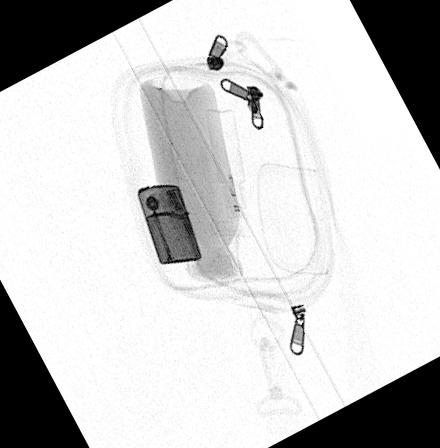Lighter: (136, 183, 203, 265)
